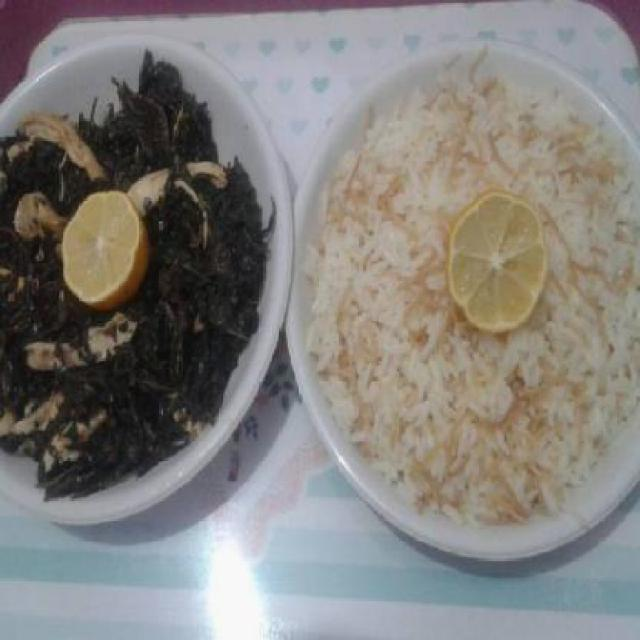fried rice: (302, 46, 638, 540)
molokhia: (1, 46, 274, 509)
